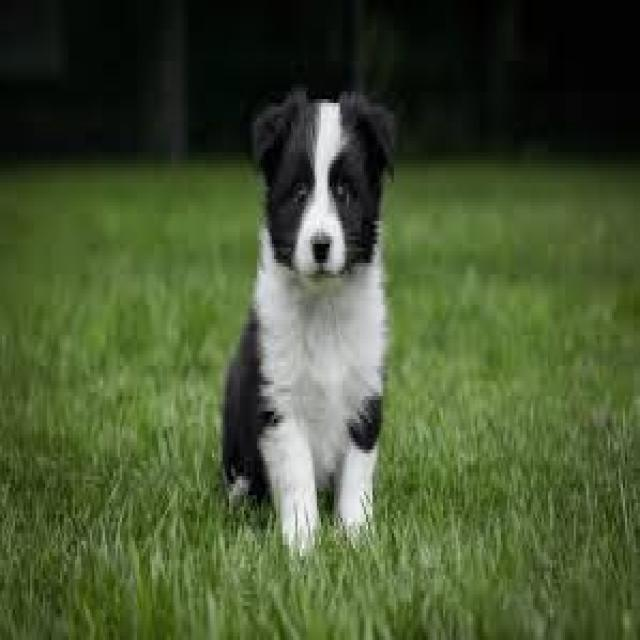BORDER_COLLIE: (202, 60, 408, 550)
